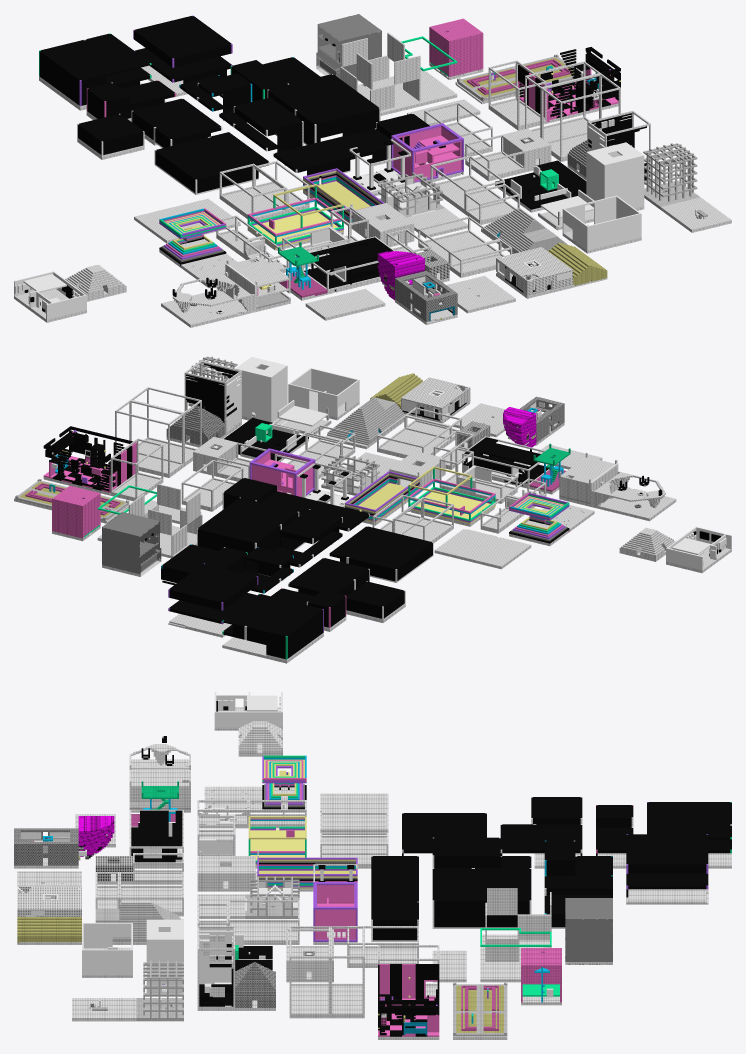
The model's file is Oasis-v2.glb.
3 renders of one model, top to bottom at view 1: azimuth 30°, elevation 25°; view 2: azimuth 150°, elevation 25°; view 3: azimuth 270°, elevation 25°, orthographic. The views are drawn at different scales.
Visible parts, largest first — view 1: solid-voxels_65.010; view 2: solid-voxels_65.010; view 3: solid-voxels_65.010.
Part boxes in pixels (bbox=[...]): solid-voxels_65.010: bbox=[14, 14, 731, 327]; solid-voxels_65.010: bbox=[14, 356, 731, 663]; solid-voxels_65.010: bbox=[14, 692, 731, 1039].
Bounding box in the file's own units: 229 × 20 × 211.
Materials: 1 (1 with a texture image).
